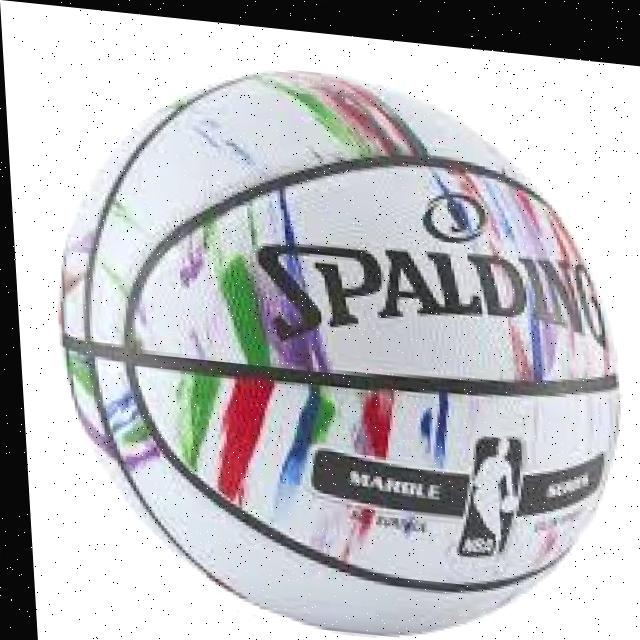Basketball: (42, 42, 637, 640)
